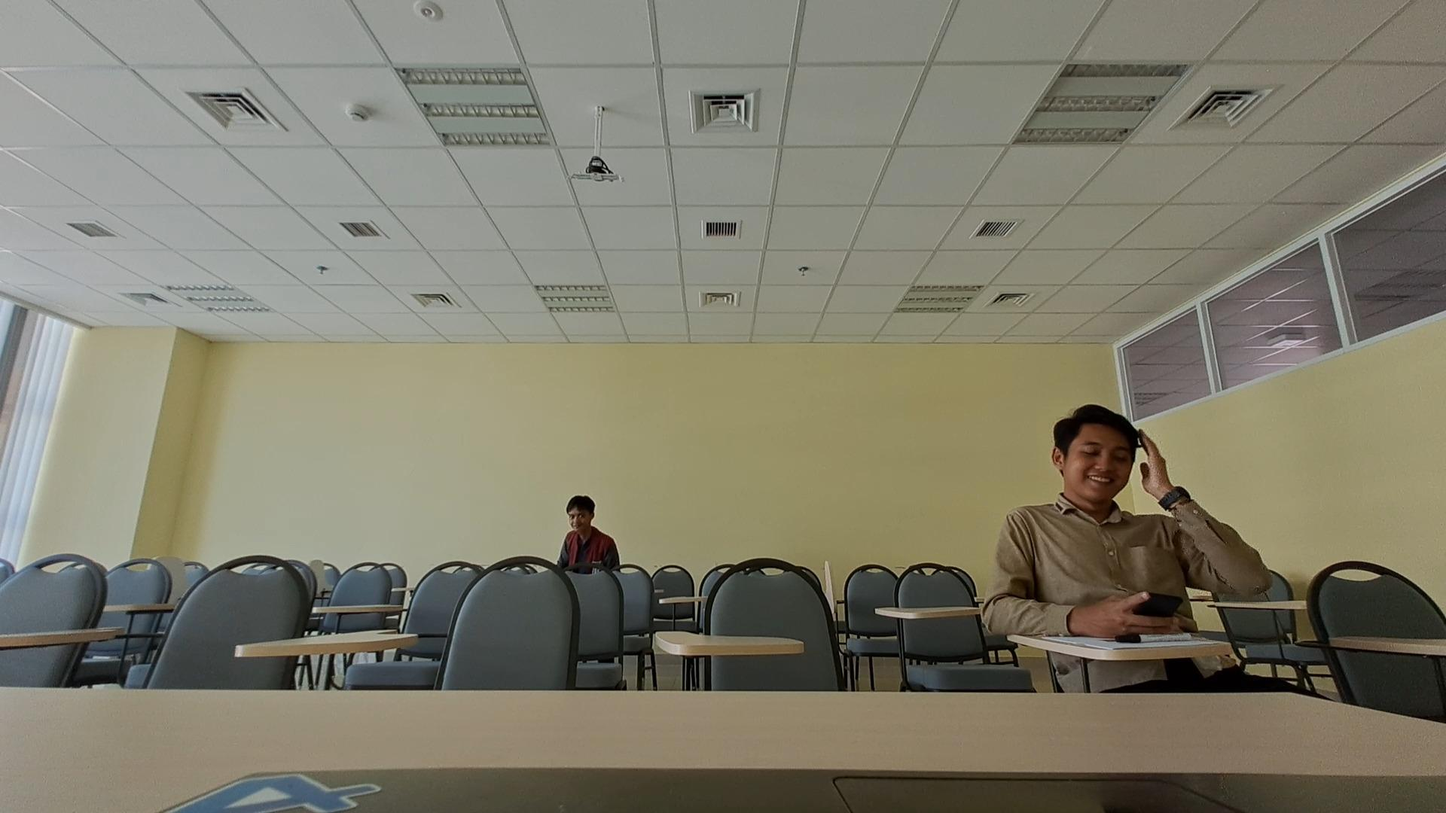phone: (983, 406, 1270, 638)
study: (555, 494, 619, 572)
